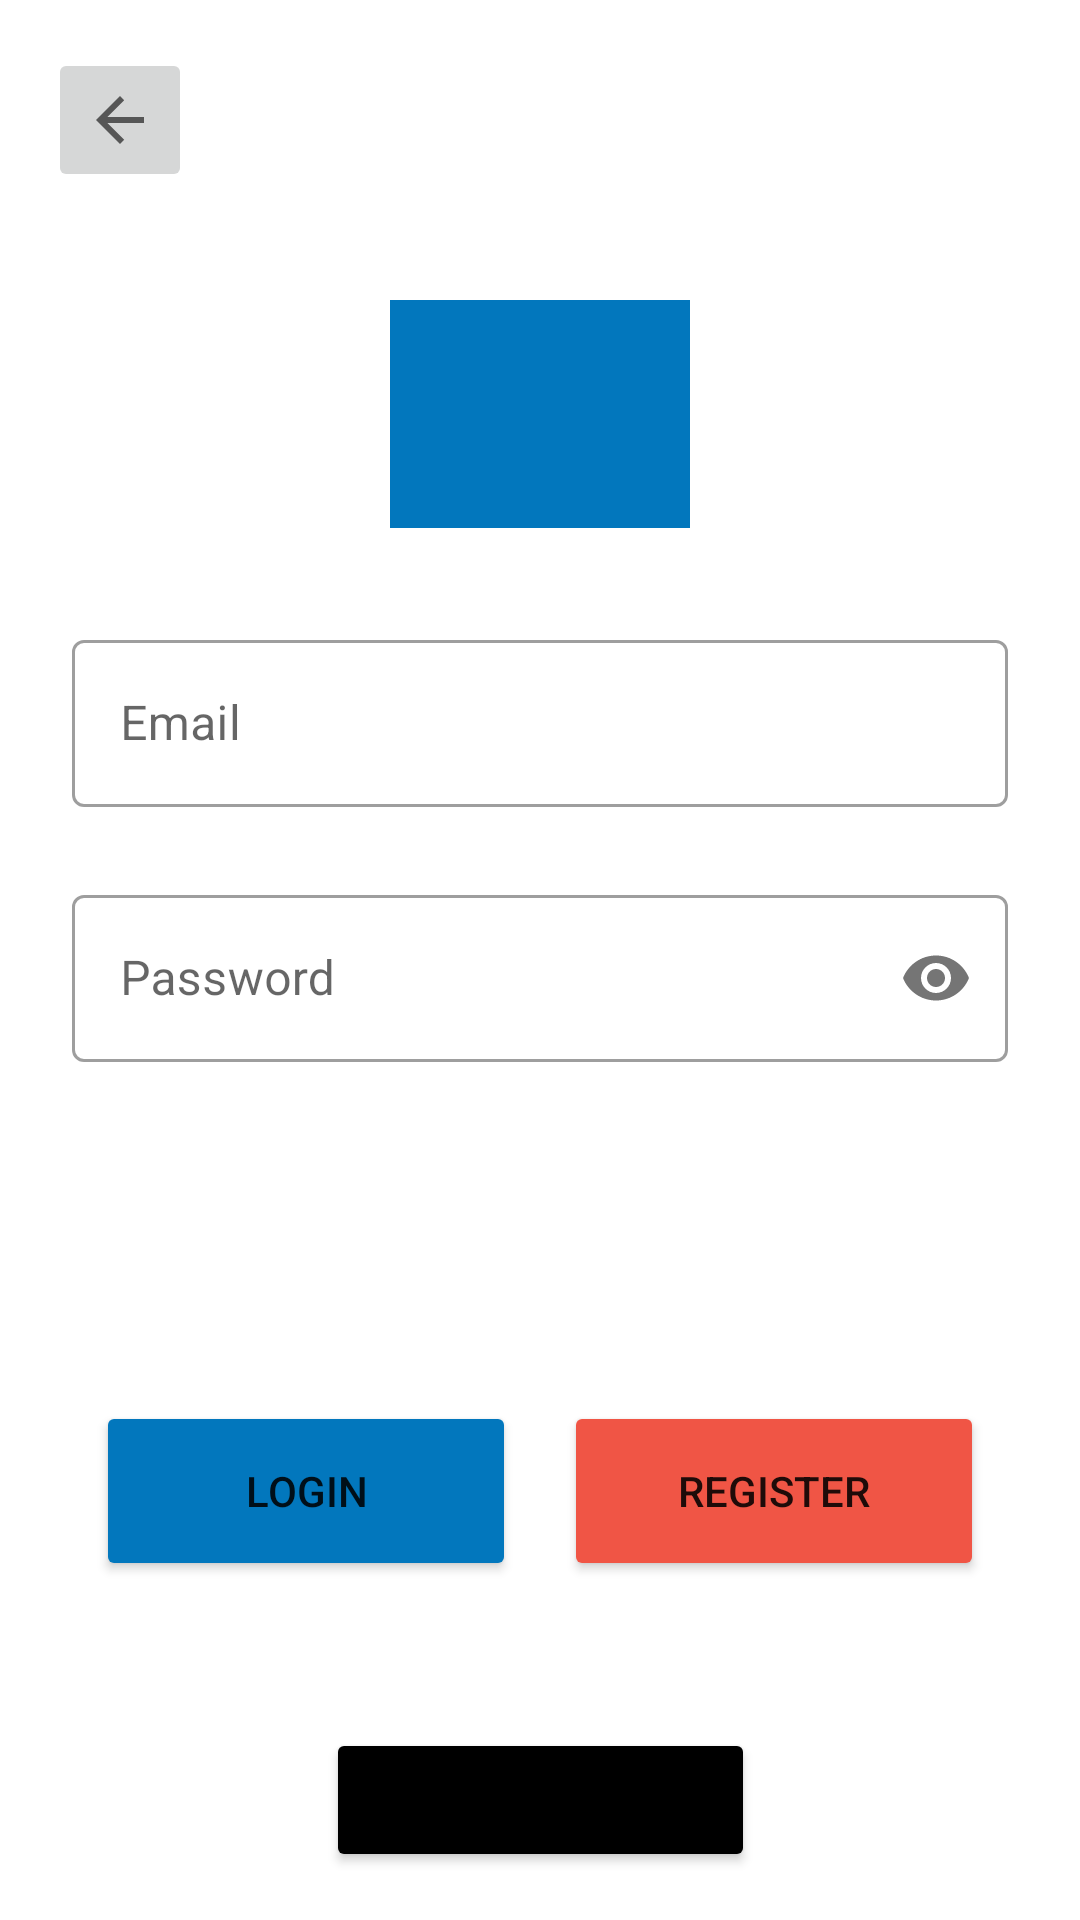

Icon click points for this 1080w x 1920h phone screenshot, format (x=x, y=y):
Return: (x=120, y=120)
